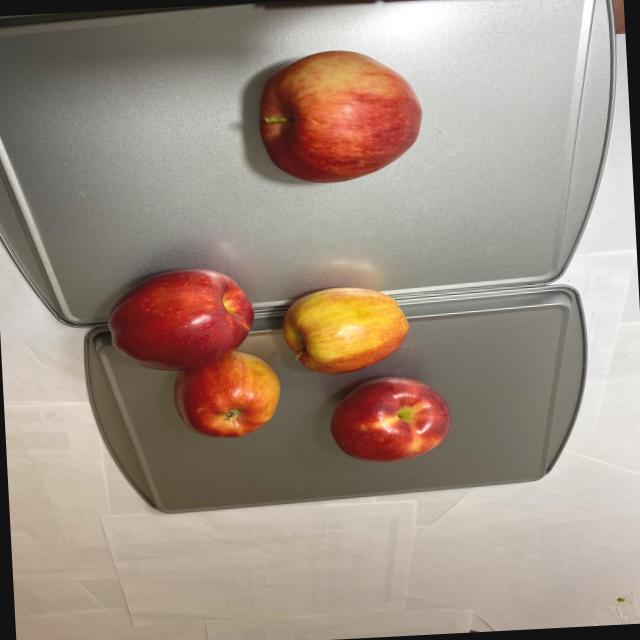apple: (102, 254, 456, 476), (254, 44, 430, 188)
